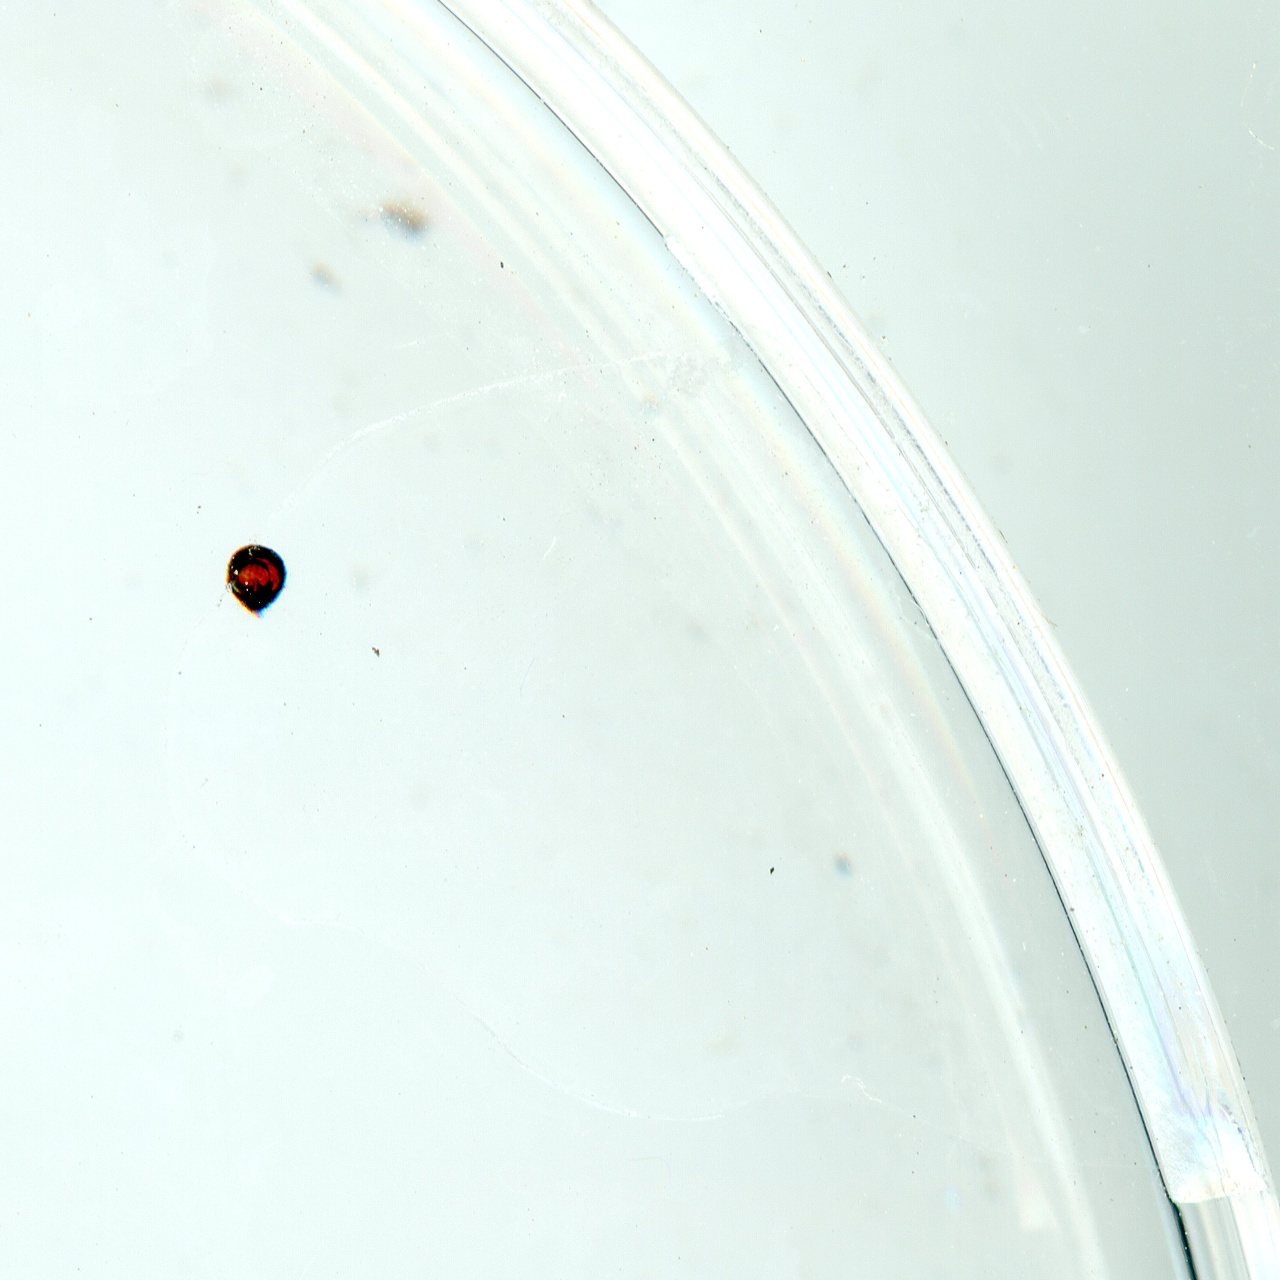arthropod: (222, 543, 291, 619)
